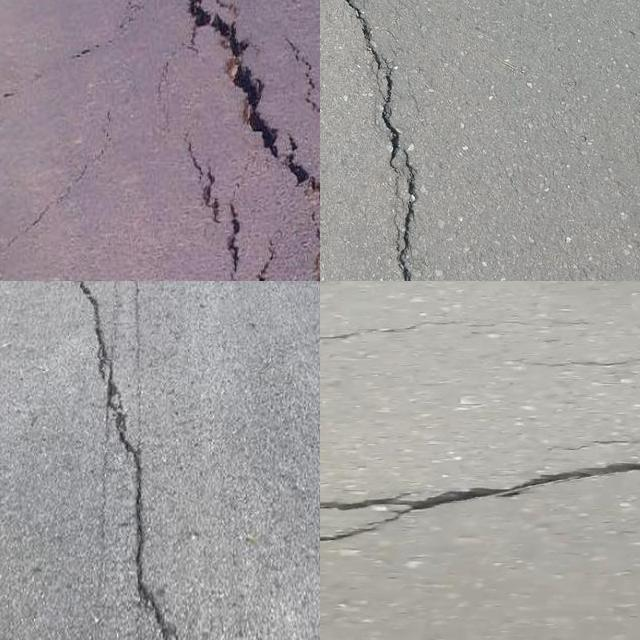Melintang: (320, 449, 640, 554)
Memanjang: (51, 281, 192, 640), (165, 0, 320, 281), (326, 0, 428, 281), (177, 134, 292, 281)
